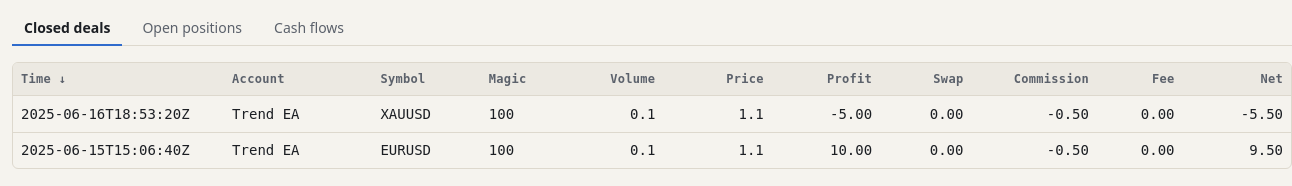
Scenario: cash-flows tab shows balance-family records
Click the tab "Cash flows". click: [309, 29]
box: x1=262 y1=12 x2=356 y2=46
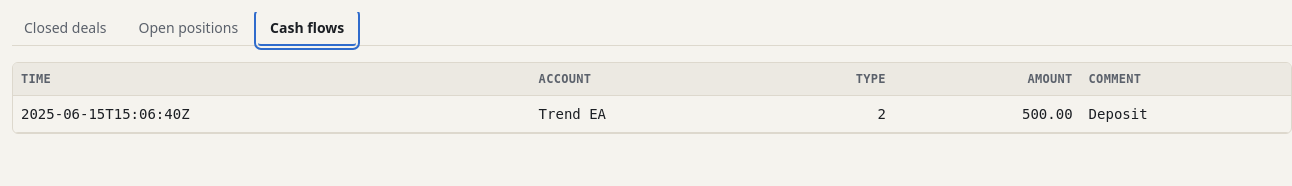
Now the text "Deposit" is shown, box x1=1081 y1=96 x2=1291 y2=132
Now the text "500.00" is shown, box x1=894 y1=96 x2=1081 y2=132
